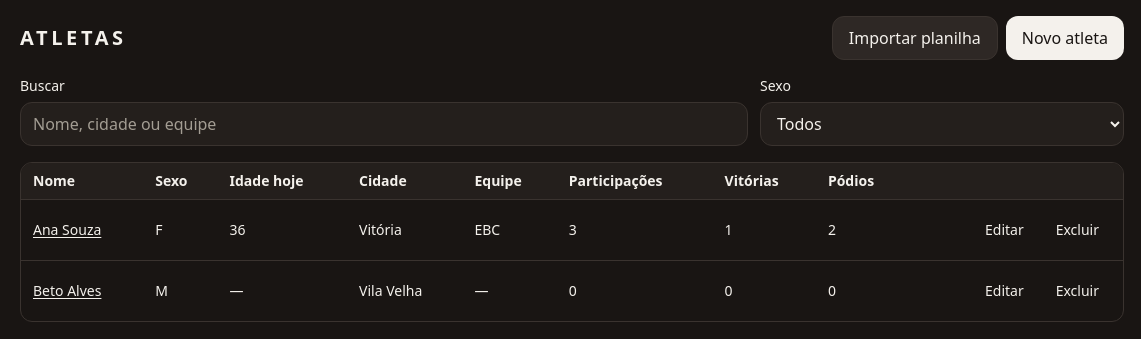
Test case: AthletesPage › filters by search term on name/city/team, accent-insensitive
Expected: the link "Ana Souza" is shown, [33,220,101,239]
Step 1. Type "vitoria" into the field labelled "Buscar" → [384, 124], box [20,102,748,146]
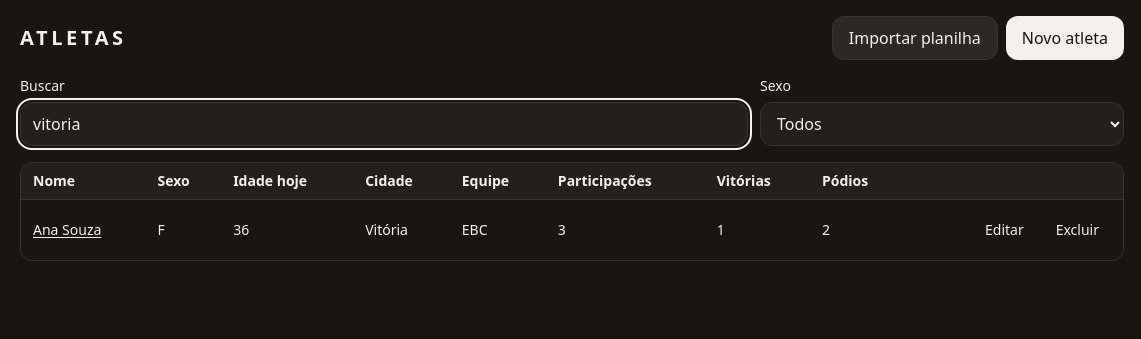
Expected: the link "Ana Souza" is shown, [33,220,101,239]
Now the link "Beto Alves" is gone
